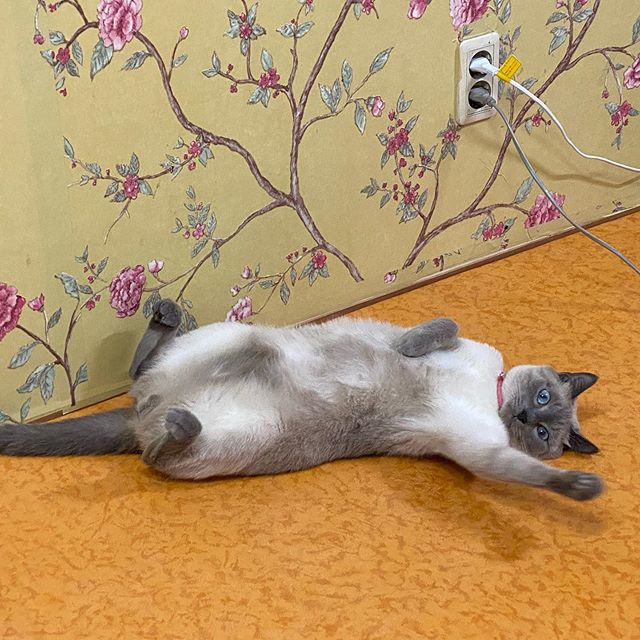cat: (491, 353, 603, 458)
